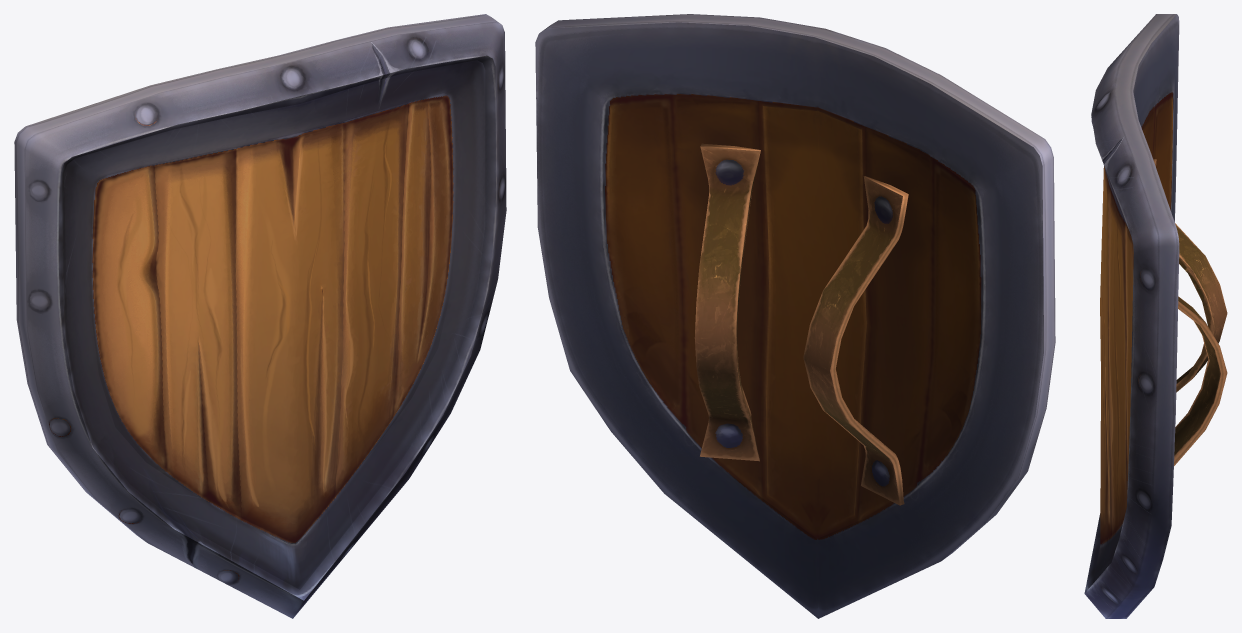
File: 060_a_wooden_shield.fbx
3 views of the same model, side by side, from view 1: azimuth 30°, elevation 25°; view 2: azimuth 150°, elevation 25°; view 3: azimuth 270°, elevation 25° (orthographic). The views are drawn at different scales.
Visible parts, largest first — view 1: 060_a_wooden_shield; view 2: 060_a_wooden_shield; view 3: 060_a_wooden_shield.
Part boxes in pixels (<box>): 060_a_wooden_shield: <box>14,14,506,618</box>; 060_a_wooden_shield: <box>535,14,1055,618</box>; 060_a_wooden_shield: <box>1084,14,1227,618</box>.
Bounding box in the file's own units: 63.24 × 69.66 × 17.11.
